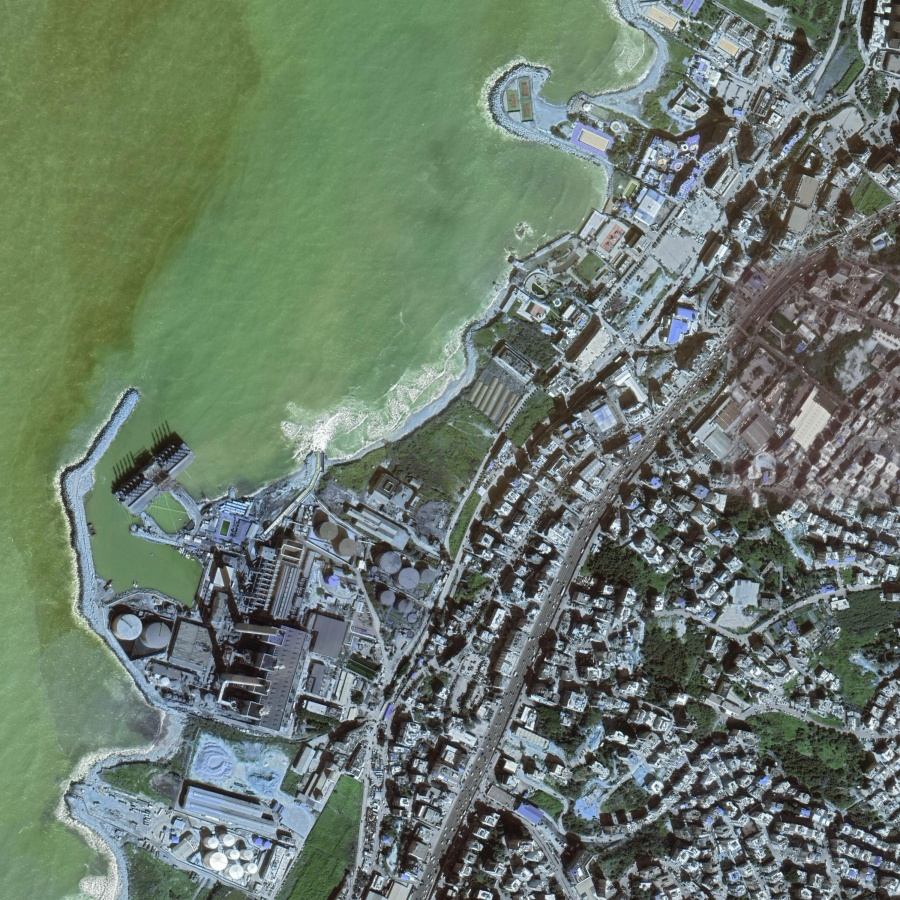PowerPlant: (100, 446, 445, 877)
